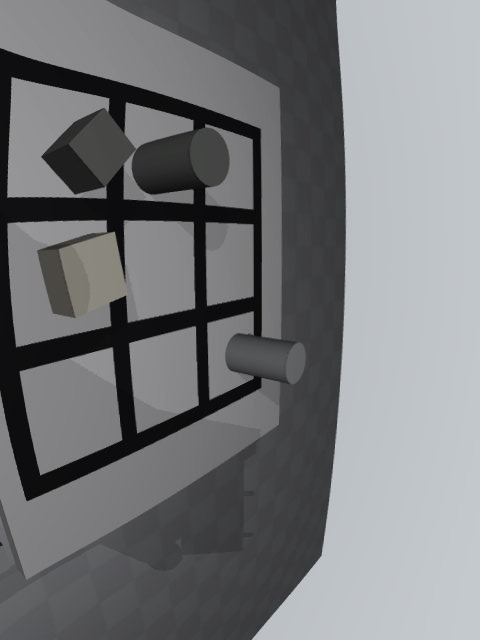can: (225, 333, 306, 385)
cube: (42, 108, 136, 195)
cylinder: (131, 128, 230, 195)
foam: (37, 232, 128, 318)
